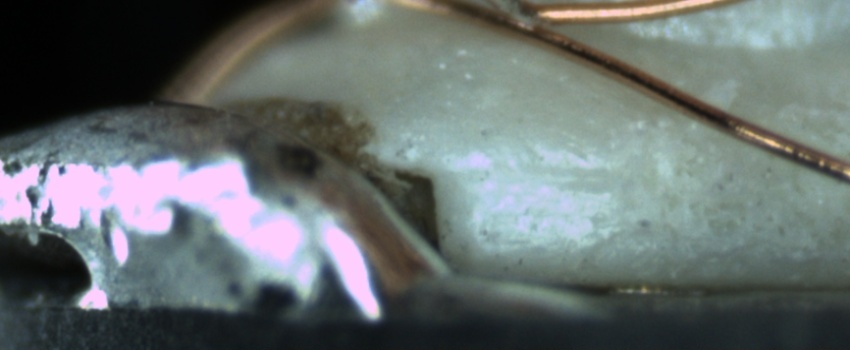DL: (461, 137, 624, 209)
